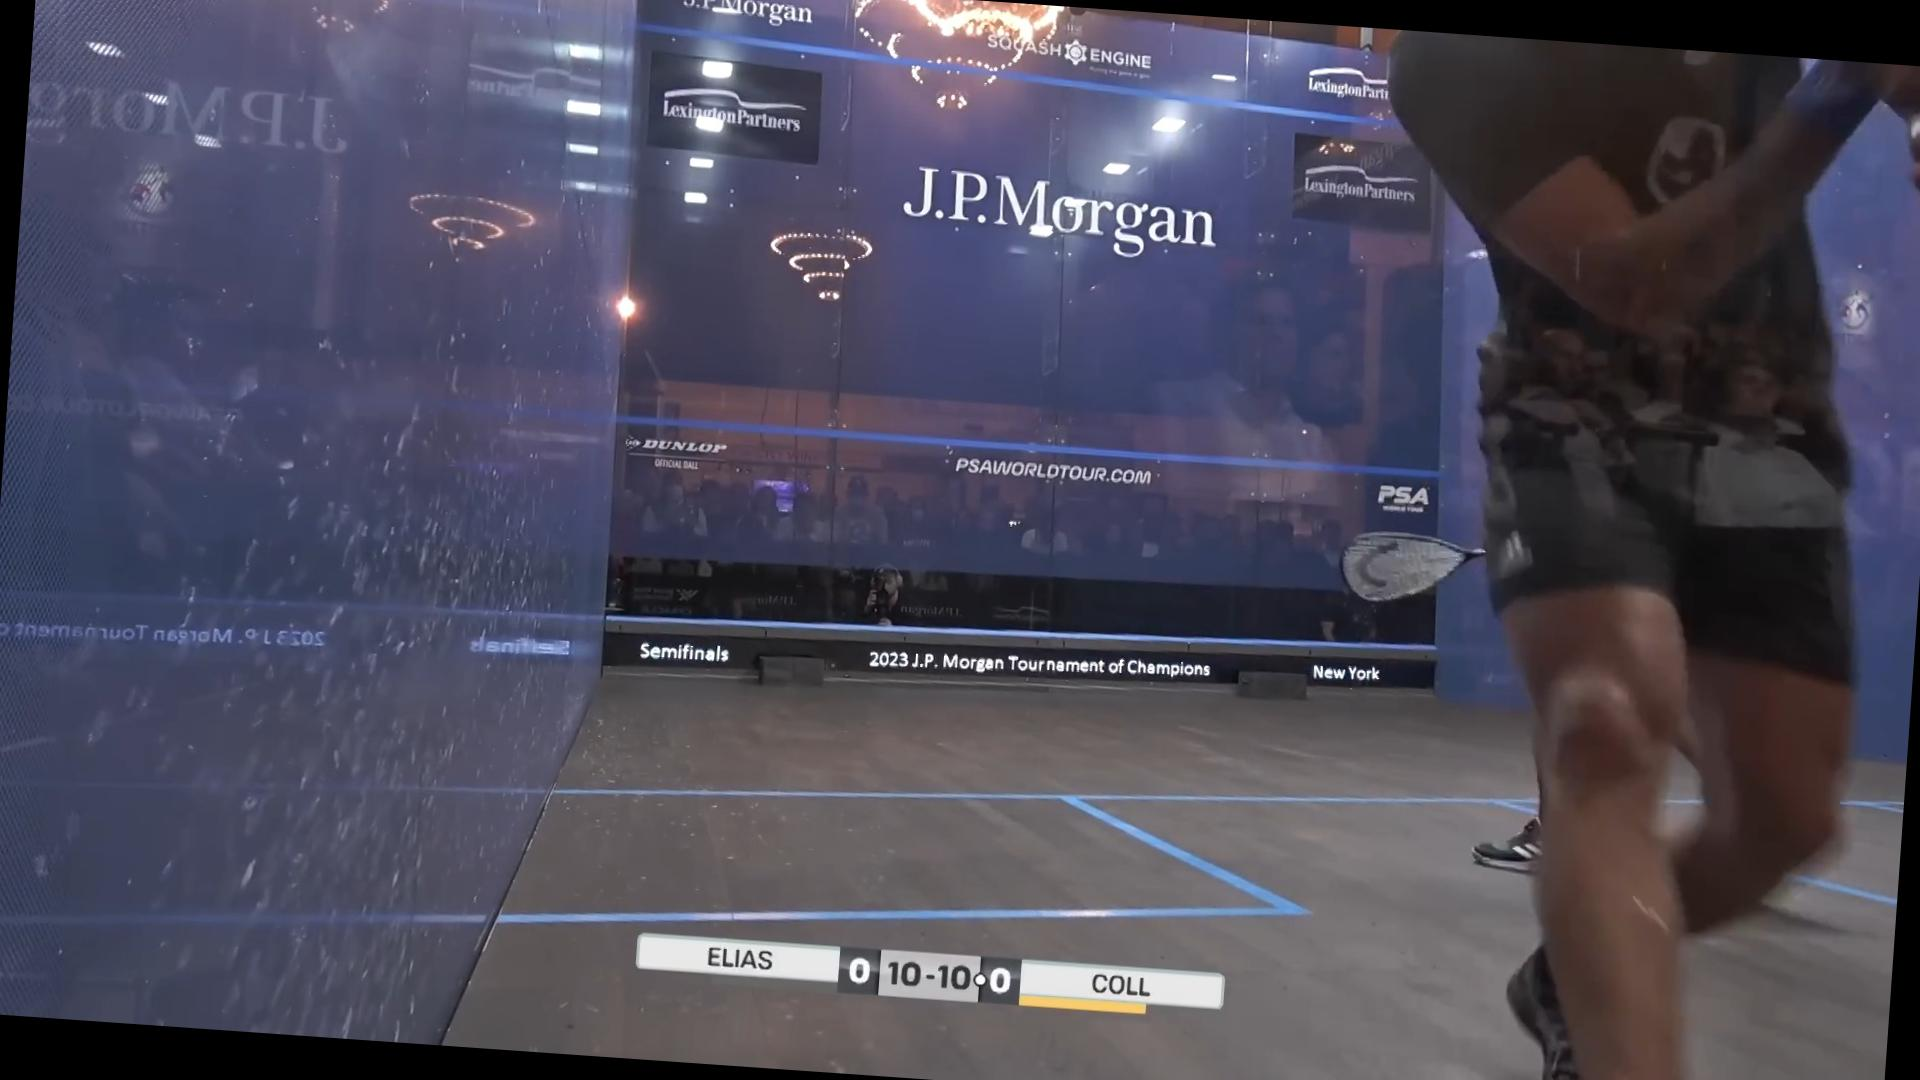Racket: (1324, 517, 1490, 618)
